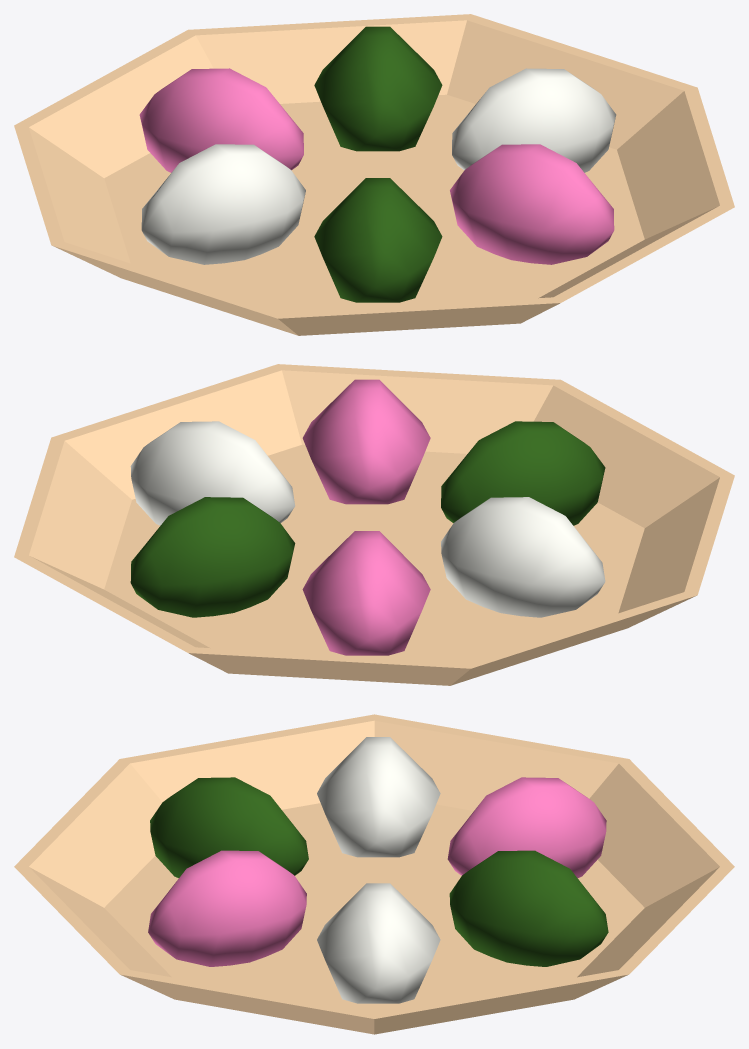
Rendered from Songpyeon.fbx.
3 views of the same model, one above another, from view 1: azimuth 30°, elevation 25°; view 2: azimuth 150°, elevation 25°; view 3: azimuth 270°, elevation 25° (orthographic). The views are drawn at different scales.
Visible parts, largest first — view 1: Cylinder, Sphere, Sphere.005, Sphere.003, Sphere.002, Sphere.001, Sphere.004; view 2: Cylinder, Sphere.003, Sphere, Sphere.005, Sphere.004, Sphere.002, Sphere.001; view 3: Cylinder, Sphere.003, Sphere.005, Sphere.001, Sphere, Sphere.004, Sphere.002.
Boxes of the visible parts, <box> form: Cylinder: <box>14,14,734,335</box>; Sphere: <box>141,144,305,264</box>; Sphere.005: <box>450,144,614,264</box>; Sphere.003: <box>314,26,442,151</box>; Sphere.002: <box>314,178,442,302</box>; Sphere.001: <box>452,68,616,172</box>; Sphere.004: <box>139,68,303,172</box>; Cylinder: <box>14,364,734,685</box>; Sphere.003: <box>130,497,295,617</box>; Sphere: <box>441,497,605,617</box>; Sphere.005: <box>302,379,430,504</box>; Sphere.004: <box>302,531,430,655</box>; Sphere.002: <box>441,421,605,525</box>; Sphere.001: <box>130,421,295,525</box>; Cylinder: <box>14,714,734,1034</box>; Sphere.003: <box>449,850,608,966</box>; Sphere.005: <box>148,850,306,966</box>; Sphere.001: <box>317,883,440,1003</box>; Sphere: <box>317,737,440,857</box>; Sphere.004: <box>447,777,606,877</box>; Sphere.002: <box>150,777,308,878</box>.
Size of the model in its own units: 86.89 by 13.14 by 86.89.
